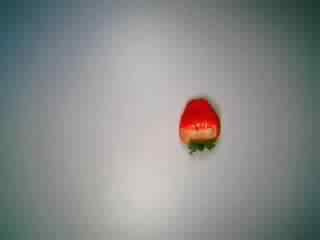strawberry: (162, 93, 228, 155)
